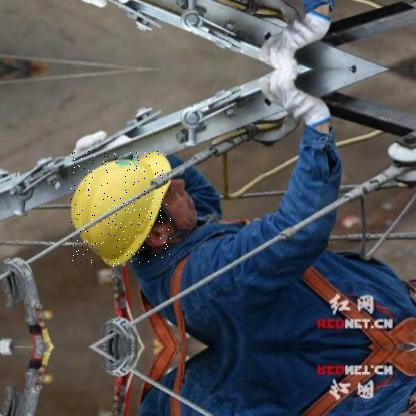safetyhelmet: (71, 151, 172, 268)
